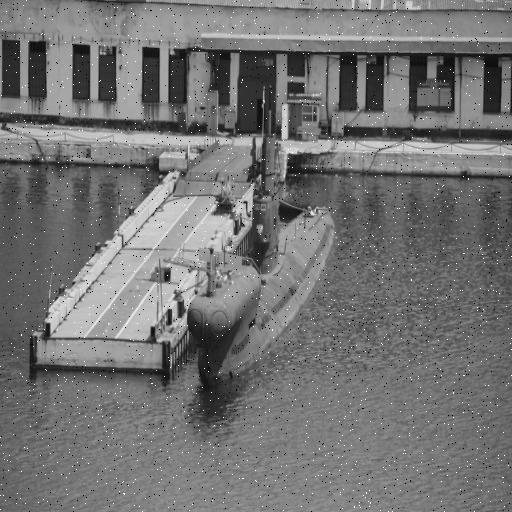submarine: (187, 110, 338, 397)
